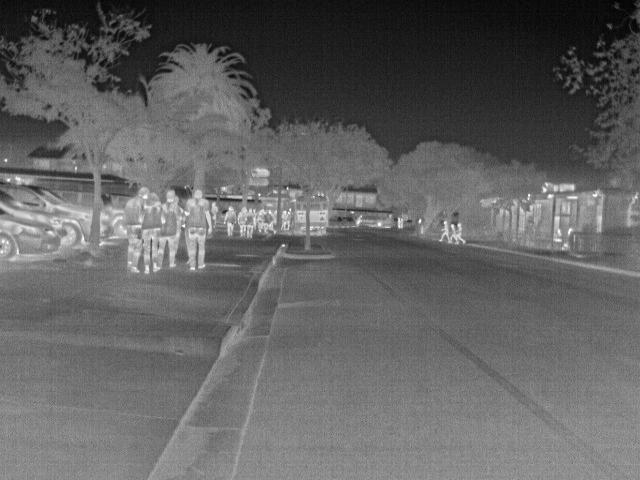car: (1, 183, 94, 252), (1, 206, 64, 264), (105, 202, 129, 240)
person: (182, 189, 211, 268), (122, 184, 148, 270), (156, 191, 179, 267), (141, 193, 161, 273), (558, 225, 578, 252), (237, 205, 253, 238), (264, 208, 283, 234), (245, 209, 260, 238), (436, 219, 453, 244), (224, 204, 237, 236), (454, 220, 470, 245), (281, 207, 294, 228), (552, 225, 566, 243)
